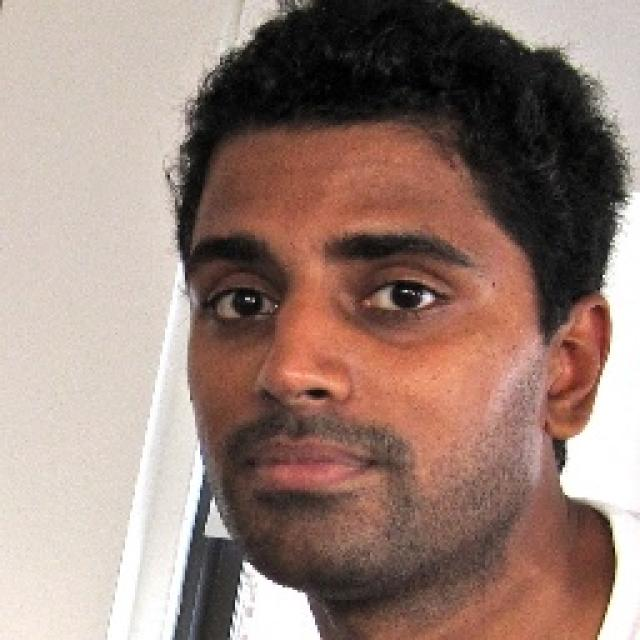earlobe: (544, 294, 614, 440)
